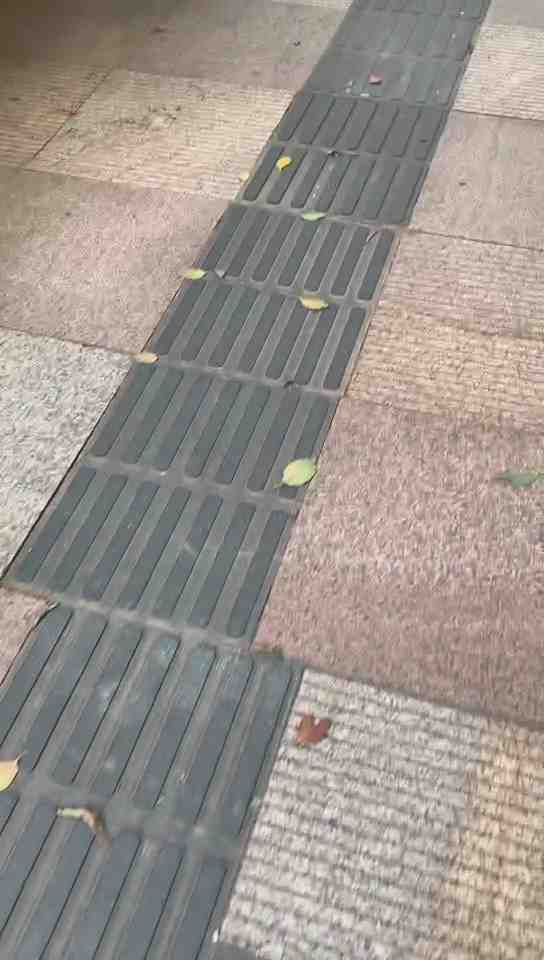leaf: (51, 803, 116, 852), (284, 710, 338, 752), (281, 450, 323, 490), (294, 290, 333, 316), (176, 262, 208, 283), (129, 349, 164, 365), (273, 155, 297, 174)
